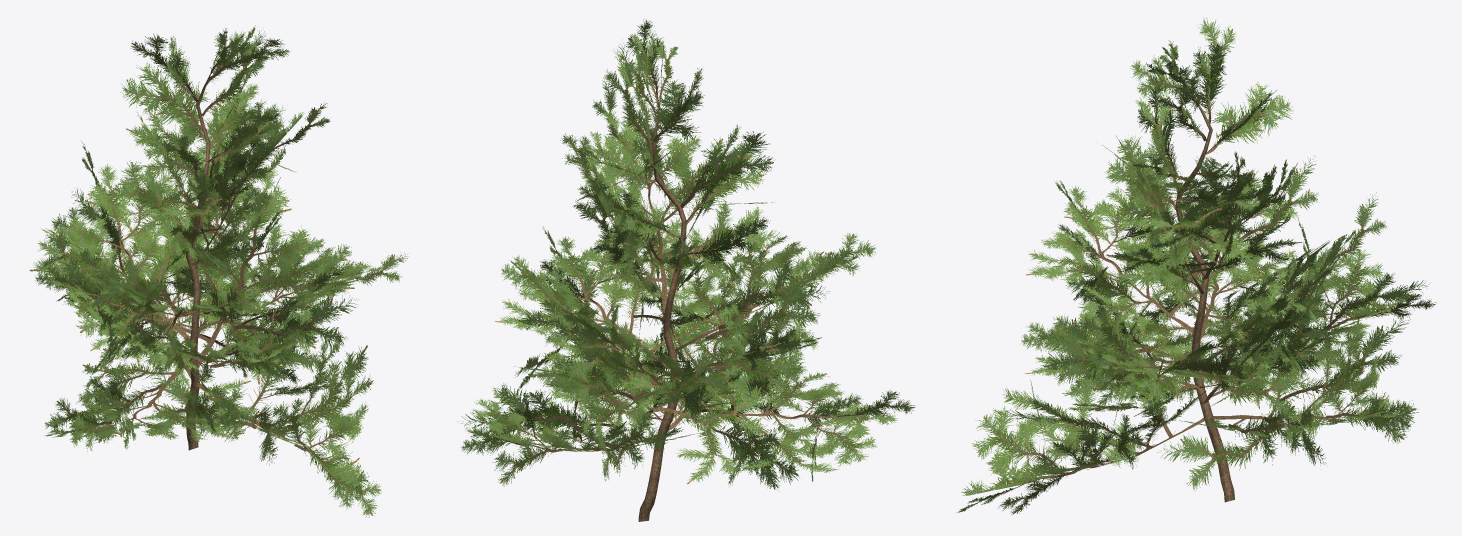
3 views of the same model, side by side, from view 1: azimuth 30°, elevation 25°; view 2: azimuth 150°, elevation 25°; view 3: azimuth 270°, elevation 25° (orthographic). The views are drawn at different scales.
Parts seen in each view (by area): view 1: Pine_sapling_3_LOD0_Bark_Mat_0; view 2: Pine_sapling_3_LOD0_Bark_Mat_0; view 3: Pine_sapling_3_LOD0_Bark_Mat_0.
Boxes of the visible parts, x1=… form: Pine_sapling_3_LOD0_Bark_Mat_0: x1=29, y1=25, x2=408, y2=517; Pine_sapling_3_LOD0_Bark_Mat_0: x1=457, y1=19, x2=915, y2=521; Pine_sapling_3_LOD0_Bark_Mat_0: x1=957, y1=17, x2=1436, y2=514.
Size of the model in its own units: 1.25 by 1.51 by 1.43.
